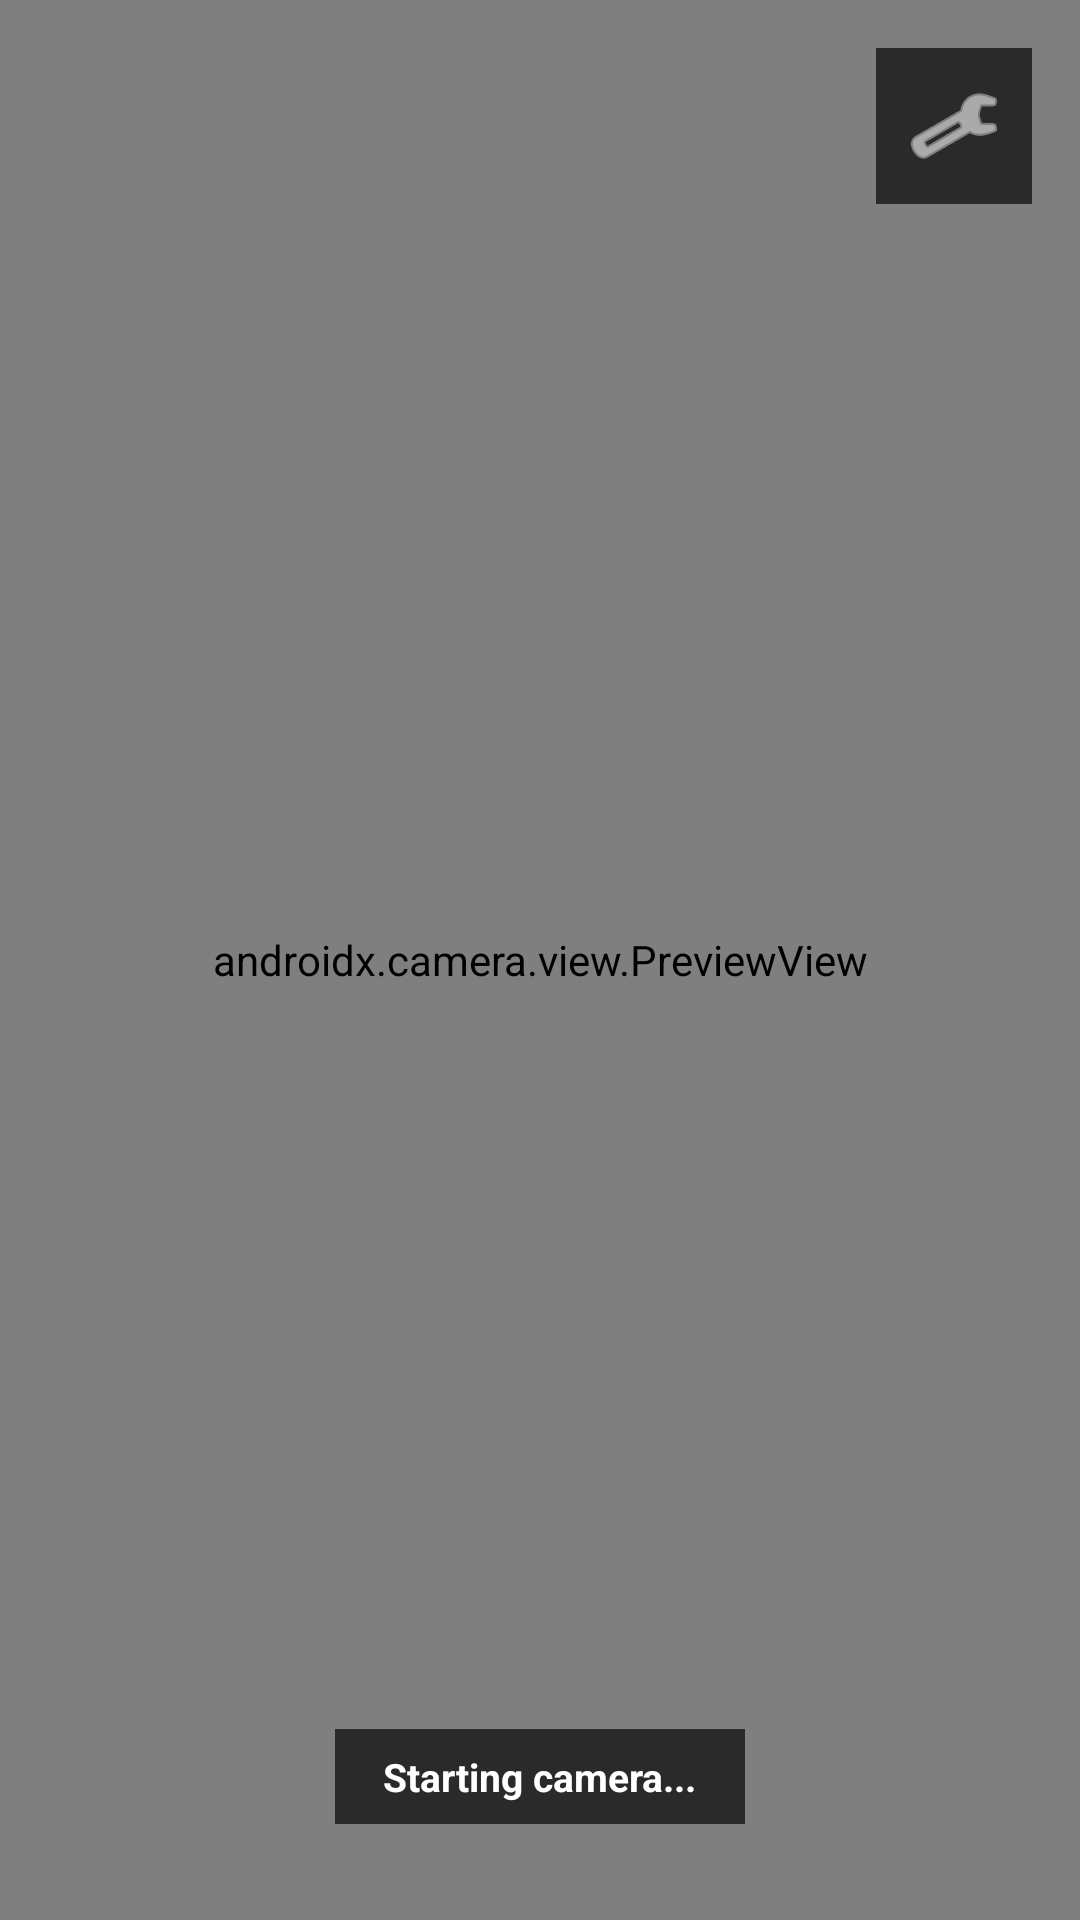

Screen size 1080*1920. Icon name, then its center in pixels as point (x, y):
Settings: point (954, 126)
